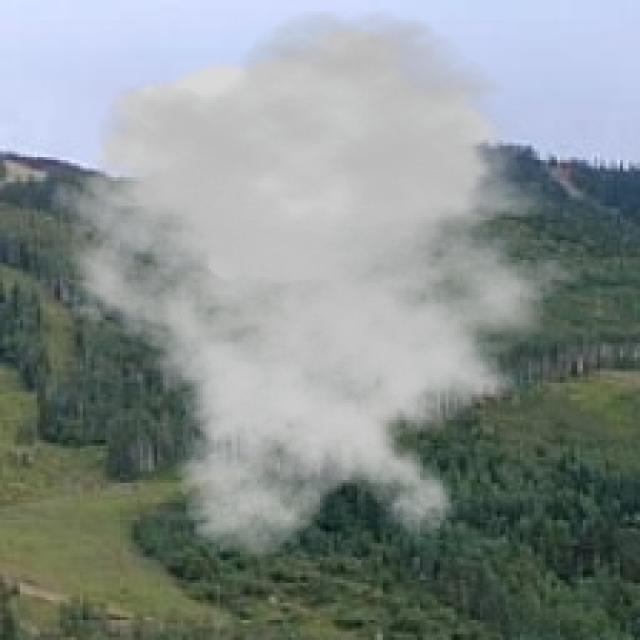smoke: (40, 9, 609, 560)
